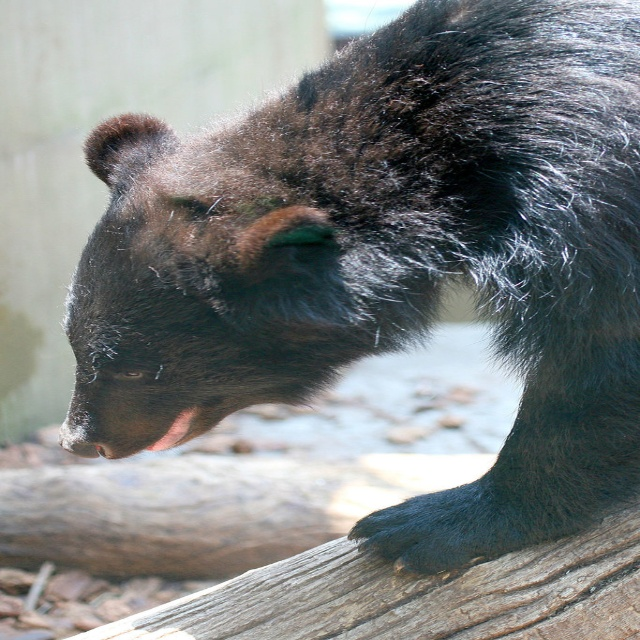Bear: (52, 0, 639, 577)
